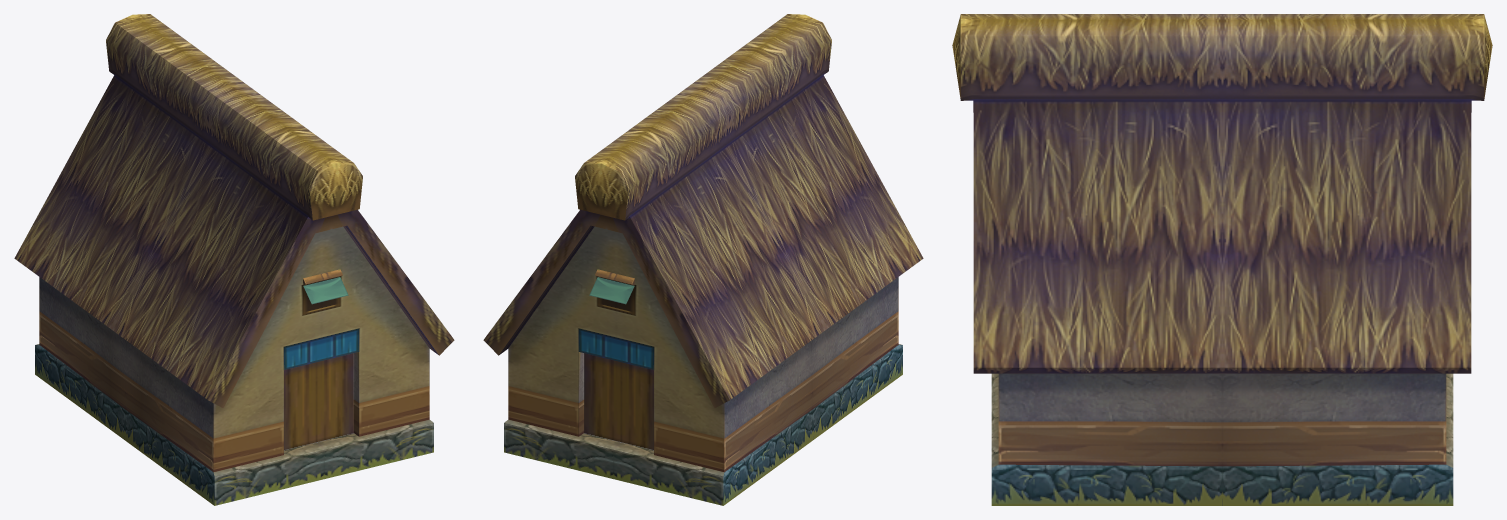
File: scenes_village_house01.FBX
3 renders of one model, left to right at view 1: azimuth 30°, elevation 25°; view 2: azimuth 150°, elevation 25°; view 3: azimuth 270°, elevation 25°, orthographic. The views are drawn at different scales.
Visible parts, largest first — view 1: scenes_village_house01; view 2: scenes_village_house01; view 3: scenes_village_house01.
Boxes of the visible parts, x1=… form: scenes_village_house01: x1=14, y1=14, x2=454, y2=505; scenes_village_house01: x1=483, y1=14, x2=923, y2=505; scenes_village_house01: x1=952, y1=14, x2=1492, y2=505.
Bounding box in the file's own units: 180 × 226 × 266.
